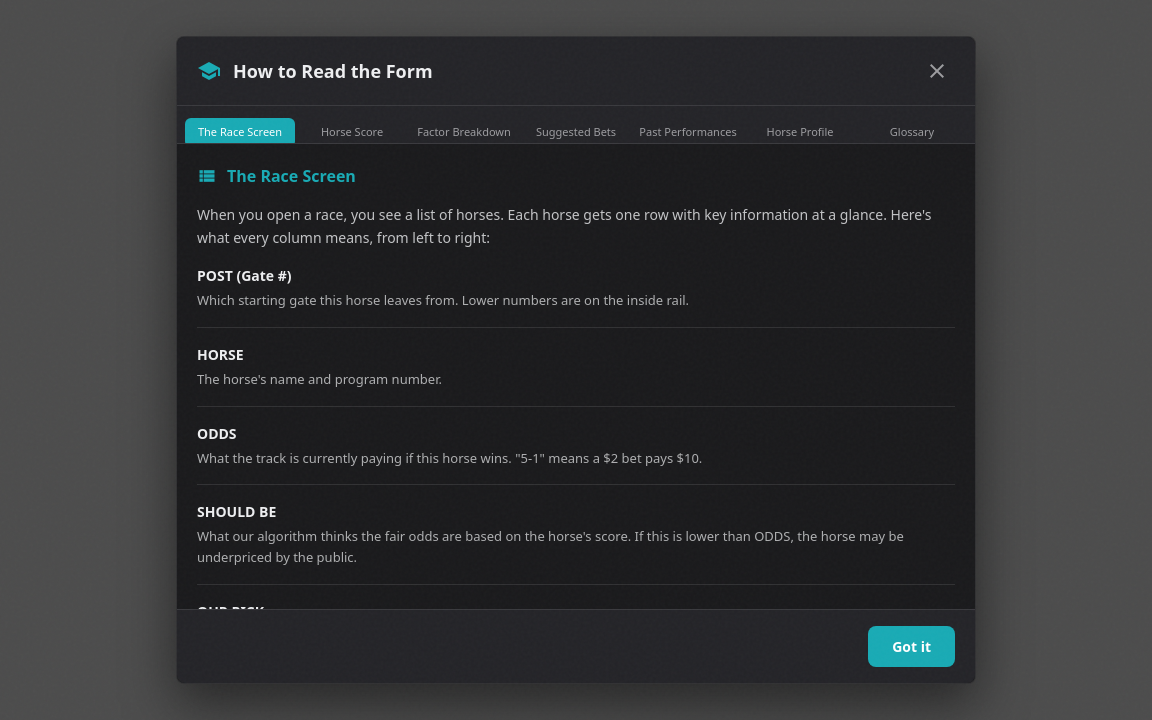
Test: ScoringHelpModal › Tab 2: Horse Score › displays Horse Quality and Betting Value zone explanations
Click the button "Horse Score" at coordinates (352, 132), box [297,118,407,146]
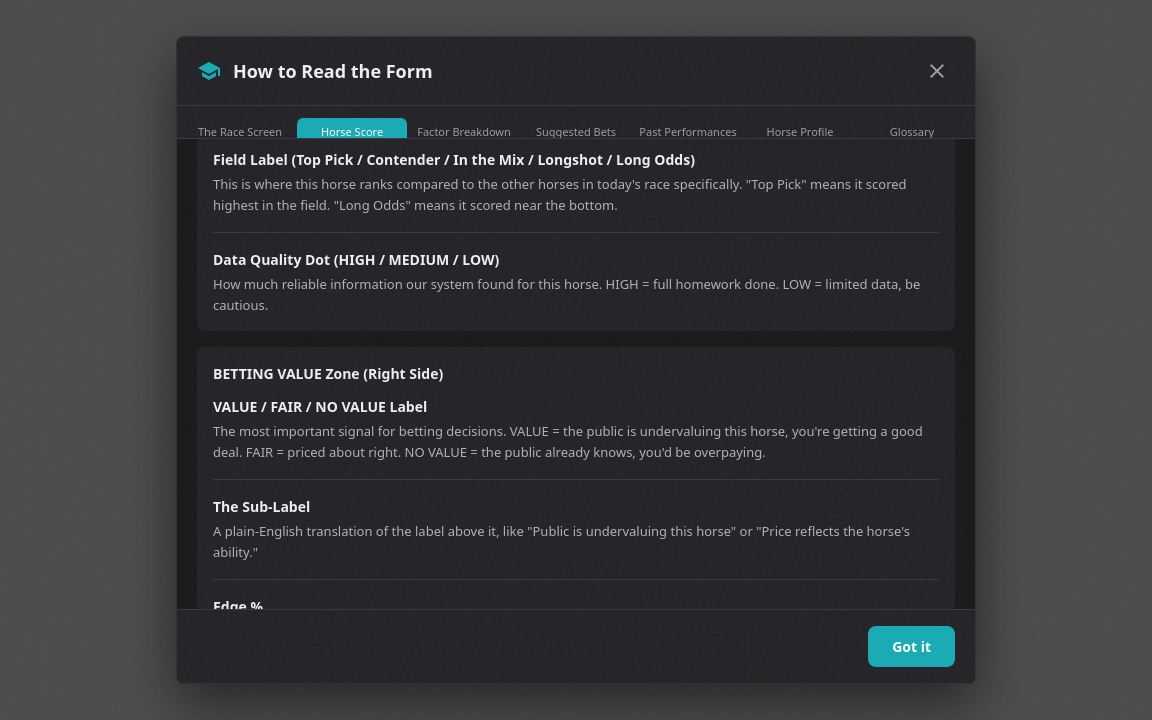
Result: the heading "BETTING VALUE Zone (Right Side)" is shown at [213,364,443,383]
